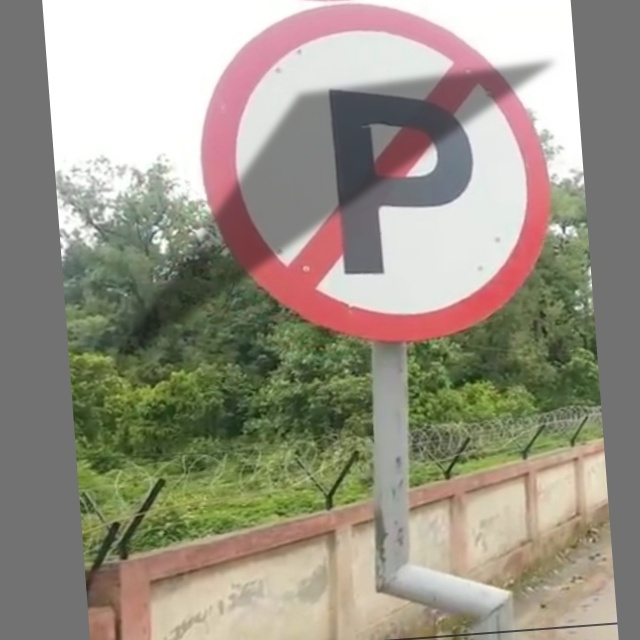No_Parking: (201, 1, 555, 347)
